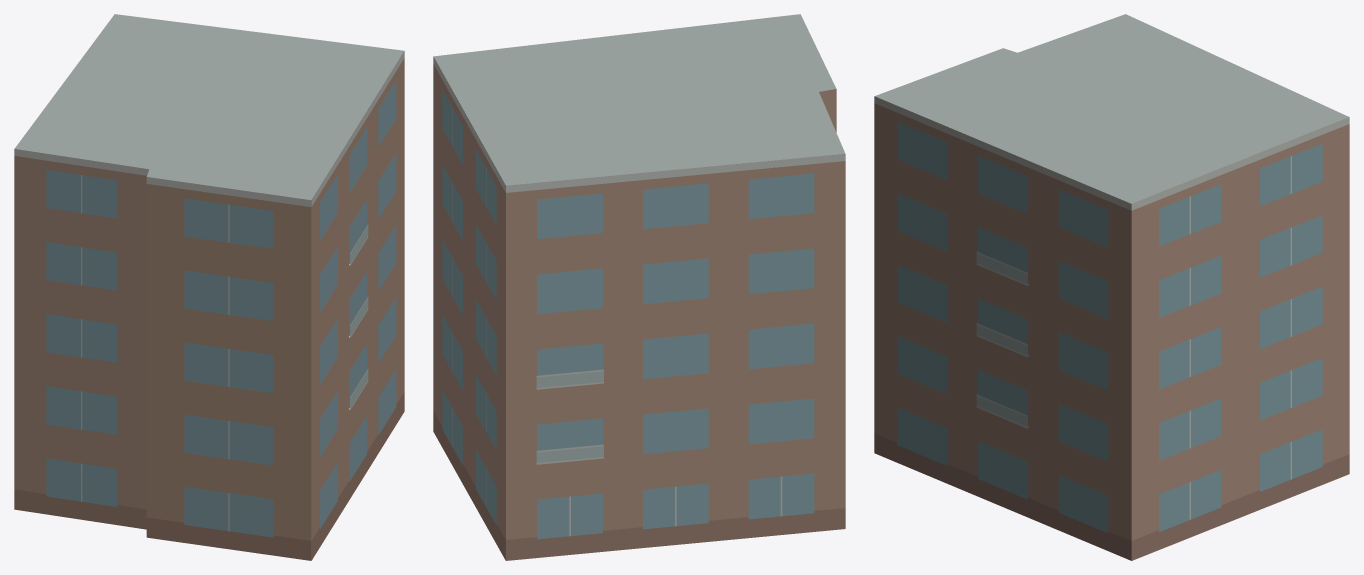
Rendered from survey-upis-32935189.glb.
The picture shows the model from 3 angles, left to right: view 1: azimuth 30°, elevation 25°; view 2: azimuth 150°, elevation 25°; view 3: azimuth 270°, elevation 25°; orthographic projection. The views are drawn at different scales.
Visible parts, largest first — view 1: survey-upis-32935189.tmp; view 2: survey-upis-32935189.tmp; view 3: survey-upis-32935189.tmp.
Part boxes in pixels (bbox=[...]): survey-upis-32935189.tmp: bbox=[14, 14, 404, 560]; survey-upis-32935189.tmp: bbox=[433, 14, 845, 560]; survey-upis-32935189.tmp: bbox=[874, 14, 1349, 560].
Size of the model in its own units: 14.5 by 12.7 by 15.33.
